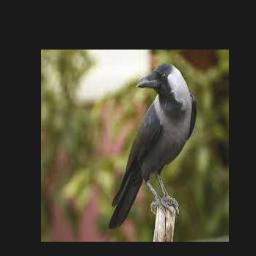Crow: (108, 62, 196, 229)
